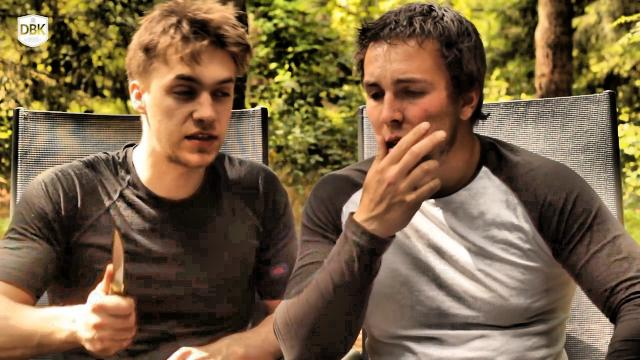knife: (76, 224, 146, 330)
